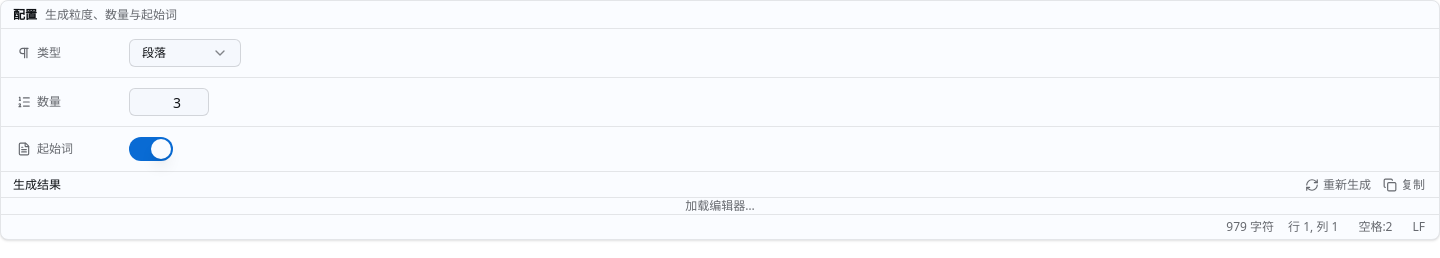
Test case: LoremIpsum 组件 › count 输入 5000 立即钳制显示 999(所见即所得)
Replace the text in the number field with test id "lorem-count" with "5000" at (169, 102), box [129,88,209,116]
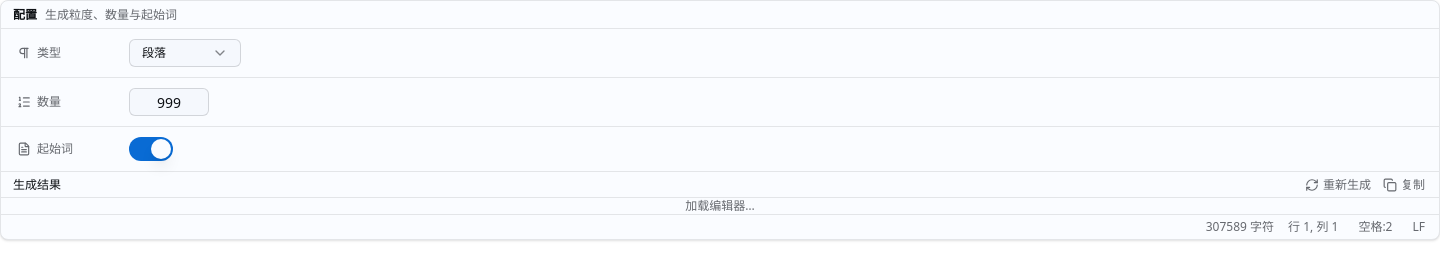
Expected: the number field with test id "lorem-count" holds "999", [129,88,209,116]
